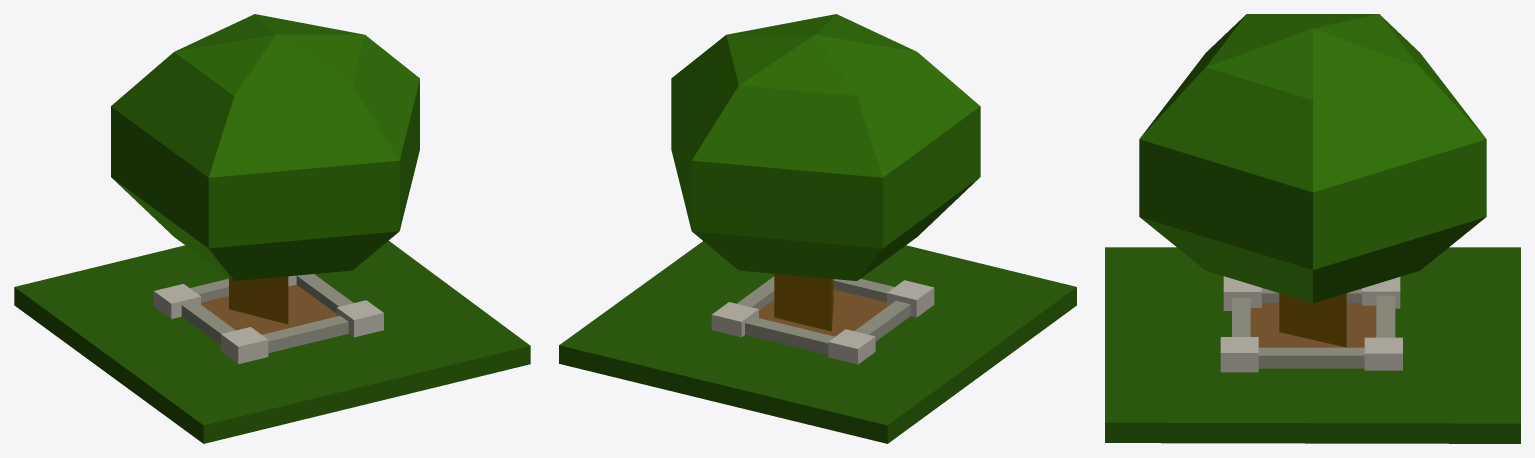
File: park_tree.fbx
The picture shows the model from 3 angles, left to right: view 1: azimuth 30°, elevation 25°; view 2: azimuth 150°, elevation 25°; view 3: azimuth 270°, elevation 25°; orthographic projection. The views are drawn at different scales.
Parts seen in each view (by area): view 1: tree:tree:treetemp:treetemp:tree:tree:treetemp:treetemp:poly; view 2: tree:tree:treetemp:treetemp:tree:tree:treetemp:treetemp:poly; view 3: tree:tree:treetemp:treetemp:tree:tree:treetemp:treetemp:poly.
Part boxes in pixels (x1,y1,x2,y2): tree:tree:treetemp:treetemp:tree:tree:treetemp:treetemp:poly: [14, 14, 530, 443]; tree:tree:treetemp:treetemp:tree:tree:treetemp:treetemp:poly: [559, 14, 1076, 443]; tree:tree:treetemp:treetemp:tree:tree:treetemp:treetemp:poly: [1105, 14, 1520, 443].
Bounding box in the file's own units: 100 × 88.15 × 100.
1 material, 1 textured.
